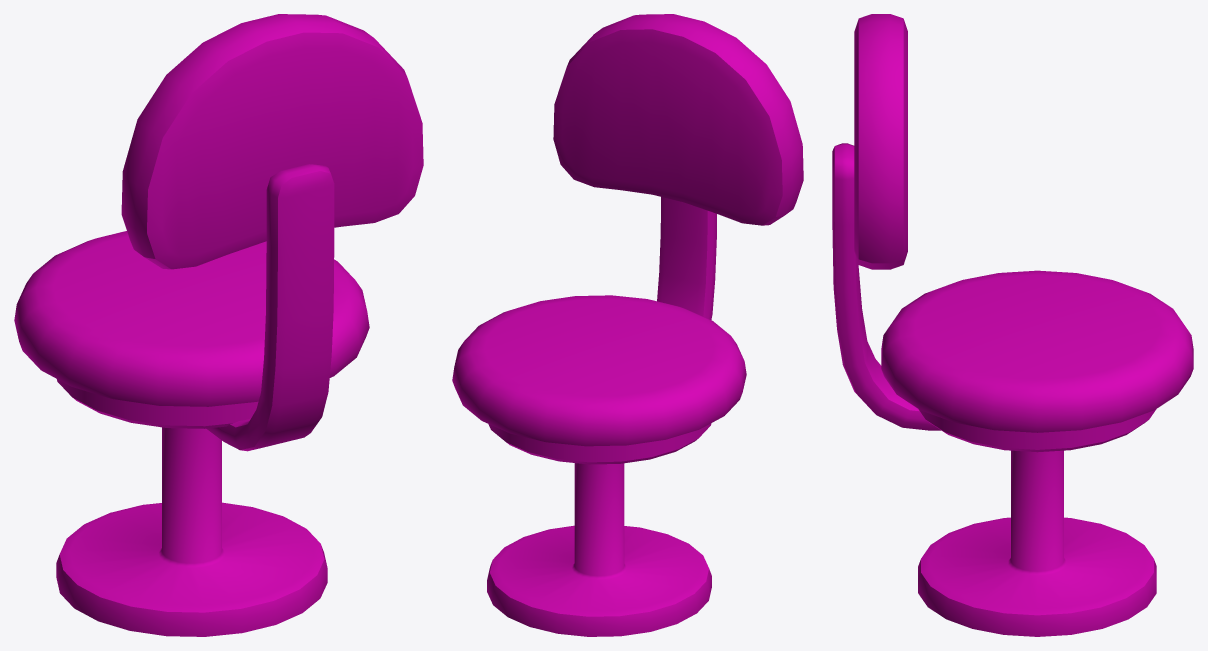
Rendered from SM_Chair02.fbx.
The picture shows the model from 3 angles, left to right: view 1: azimuth 30°, elevation 25°; view 2: azimuth 150°, elevation 25°; view 3: azimuth 270°, elevation 25°; orthographic projection. The views are drawn at different scales.
Visible parts, largest first — view 1: SM_Chair02; view 2: SM_Chair02; view 3: SM_Chair02.
Boxes of the visible parts, x1,y1,x2,y2 form: SM_Chair02: (14,14,423,636); SM_Chair02: (452,14,803,636); SM_Chair02: (832,14,1193,636).
Size of the model in its own units: 100 by 193 by 114.
